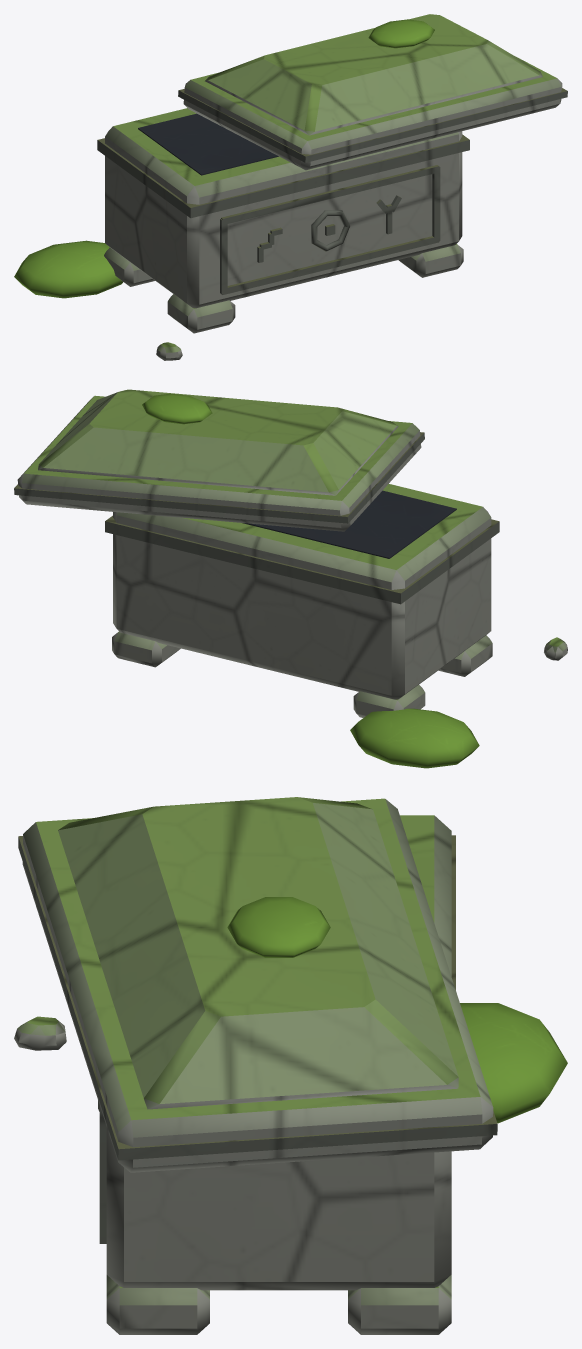
File: stone_chest.glb
3 views of the same model, one above another, from view 1: azimuth 30°, elevation 25°; view 2: azimuth 150°, elevation 25°; view 3: azimuth 270°, elevation 25° (orthographic). The views are drawn at different scales.
Parts seen in each view (by area): view 1: stone_chest; view 2: stone_chest; view 3: stone_chest.
Part boxes in pixels (box(x1,y1,x2,y2)): stone_chest: box(14, 14, 567, 360); stone_chest: box(14, 389, 567, 768); stone_chest: box(14, 797, 567, 1334).
Bounding box in the file's own units: 2.3 × 1.12 × 1.28.
Materials: 4 (4 with a texture image).
